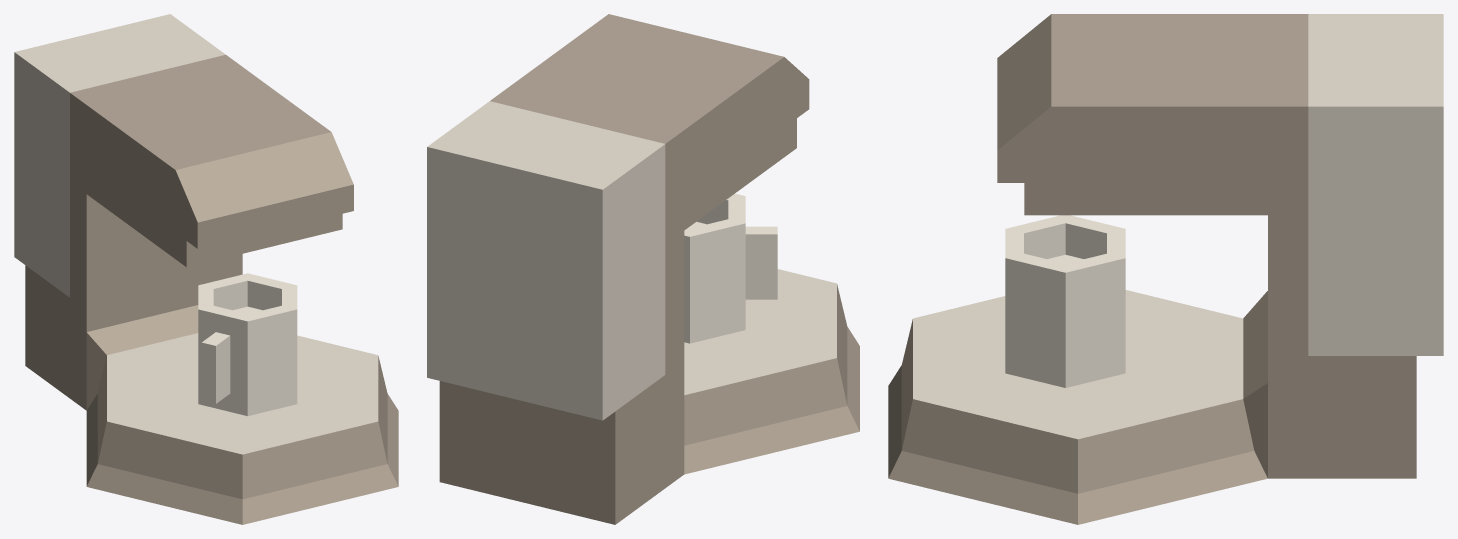
Rendered from kitKitchenCoffeeMachine.glb.
3 renders of one model, left to right at view 1: azimuth 30°, elevation 25°; view 2: azimuth 150°, elevation 25°; view 3: azimuth 270°, elevation 25°, orthographic. The views are drawn at different scales.
Parts seen in each view (by area): view 1: kitKitchenCoffeeMachine_metalMedium, kitKitchenCoffeeMachine_metal, kitKitchenCoffeeMachine_fabricLight; view 2: kitKitchenCoffeeMachine_metalMedium, kitKitchenCoffeeMachine_metal, kitKitchenCoffeeMachine_fabricLight; view 3: kitKitchenCoffeeMachine_metalMedium, kitKitchenCoffeeMachine_metal, kitKitchenCoffeeMachine_fabricLight.
Part boxes in pixels (bbox=[...]): kitKitchenCoffeeMachine_metalMedium: bbox=[25, 54, 398, 524]; kitKitchenCoffeeMachine_metal: bbox=[14, 14, 378, 454]; kitKitchenCoffeeMachine_fabricLight: bbox=[198, 273, 297, 416]; kitKitchenCoffeeMachine_metalMedium: bbox=[439, 14, 859, 524]; kitKitchenCoffeeMachine_metal: bbox=[427, 101, 836, 420]; kitKitchenCoffeeMachine_fabricLight: bbox=[684, 193, 777, 343]; kitKitchenCoffeeMachine_metalMedium: bbox=[888, 14, 1416, 524]; kitKitchenCoffeeMachine_metal: bbox=[913, 14, 1443, 439]; kitKitchenCoffeeMachine_fabricLight: bbox=[1005, 215, 1125, 387].
Size of the model in its own units: 0.2683 by 0.2513 by 0.34.
